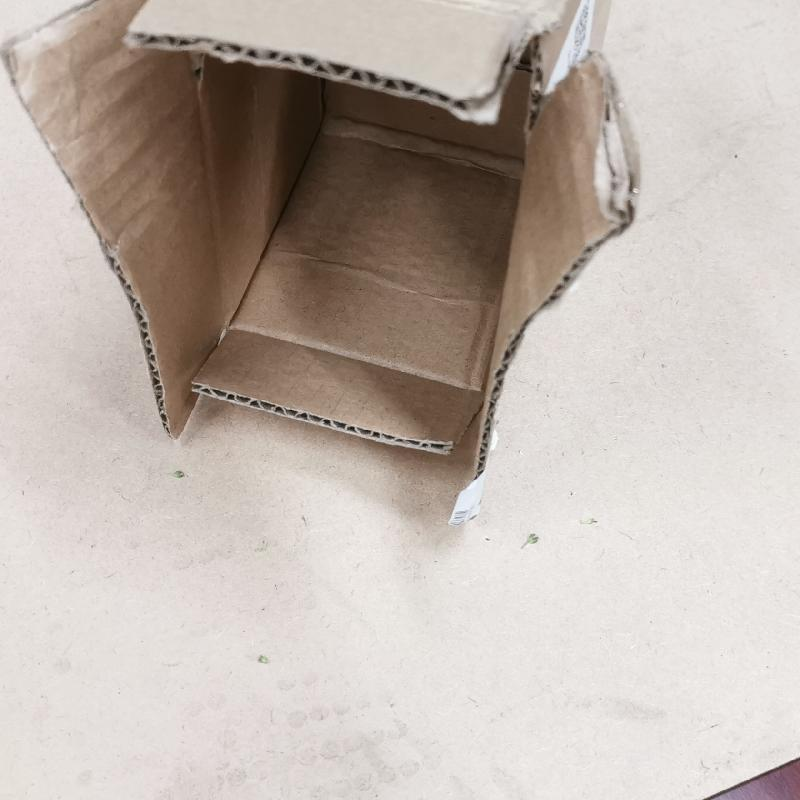boxes: (11, 8, 642, 501)
